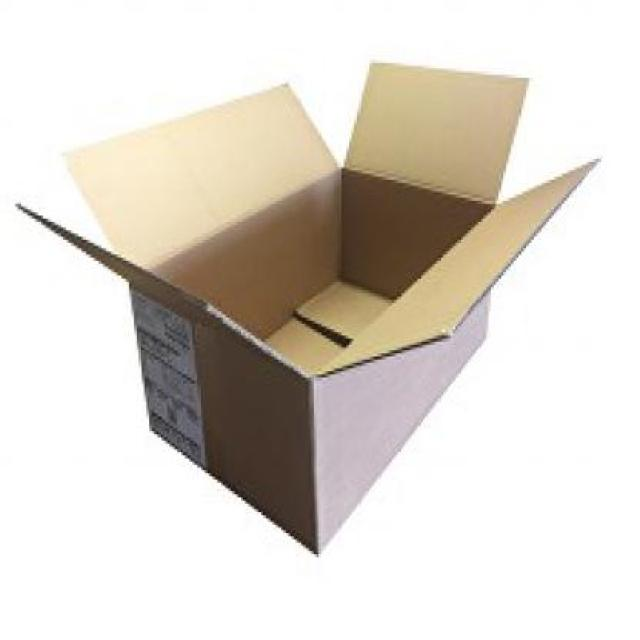box: (11, 47, 602, 559)
